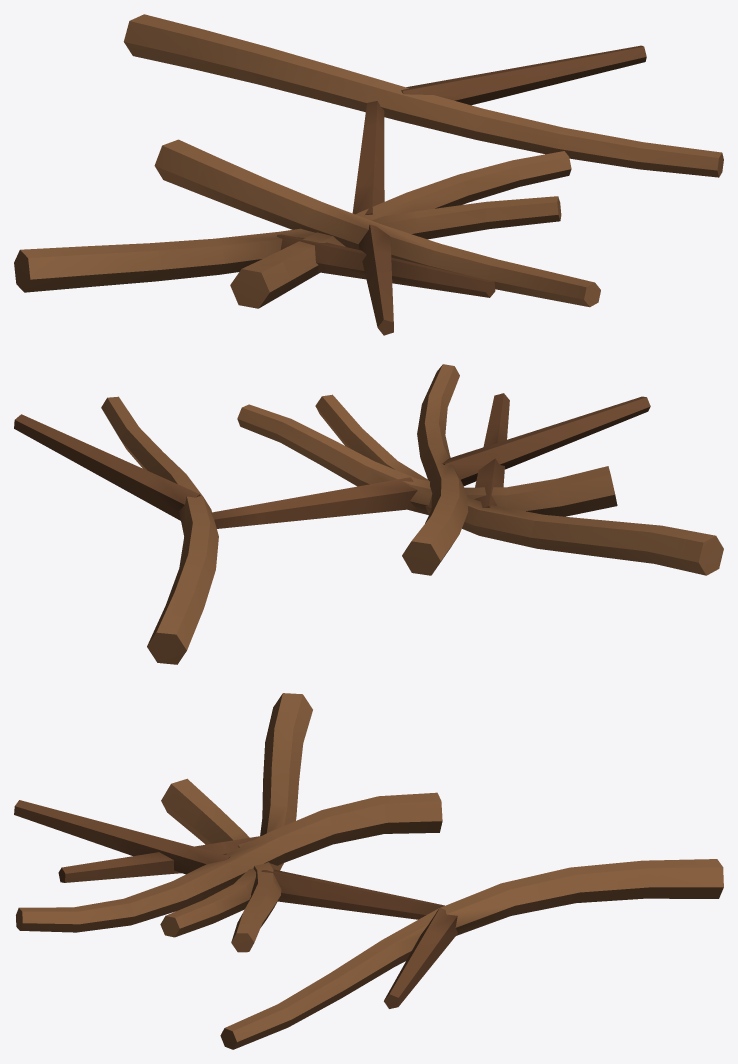
File: glade_gc_twigs_b.glb
The picture shows the model from 3 angles, top to bottom: view 1: azimuth 30°, elevation 25°; view 2: azimuth 150°, elevation 25°; view 3: azimuth 270°, elevation 25°; orthographic projection. The views are drawn at different scales.
Parts seen in each view (by area): view 1: glade_gc_twigs_b; view 2: glade_gc_twigs_b; view 3: glade_gc_twigs_b.
Boxes of the visible parts, x1,y1,x2,y2 form: glade_gc_twigs_b: [14, 14, 723, 335]; glade_gc_twigs_b: [14, 364, 723, 664]; glade_gc_twigs_b: [14, 693, 723, 1049].
Size of the model in its own units: 4.34 by 0.4197 by 4.22.
